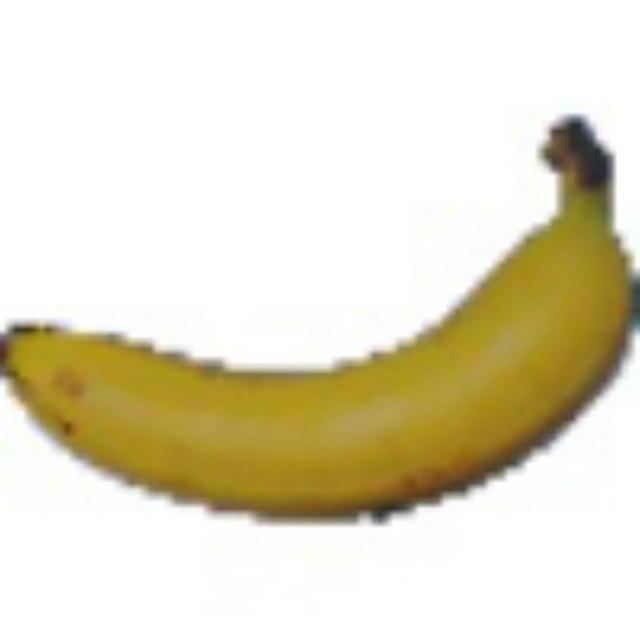banana: (0, 122, 634, 538)
